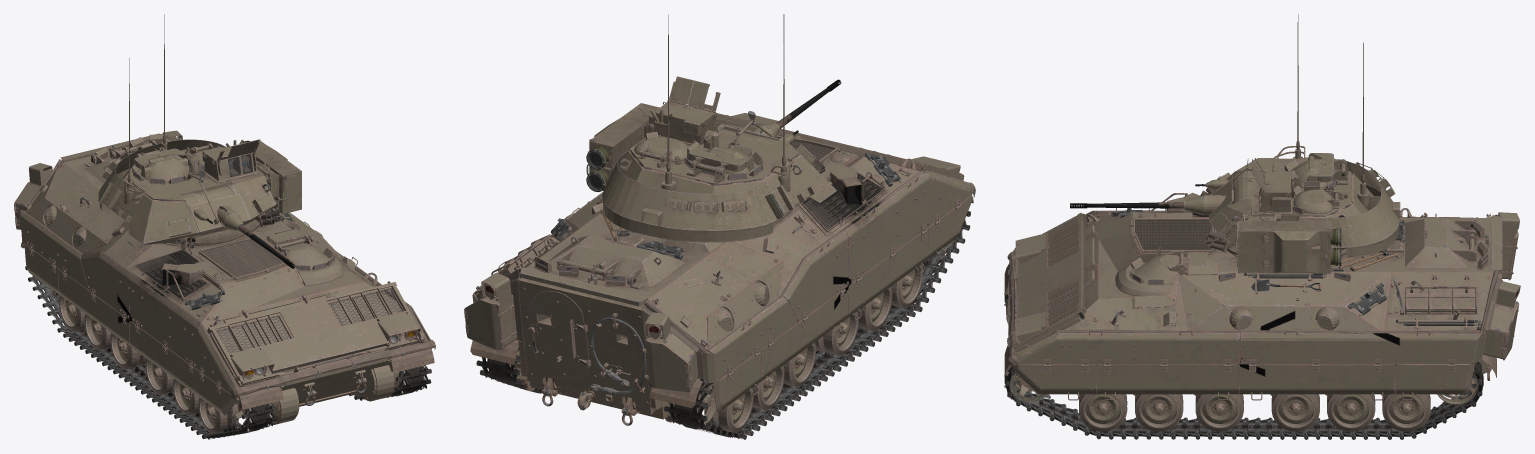
File: bradley_m3a3.glb
The picture shows the model from 3 angles, left to right: view 1: azimuth 30°, elevation 25°; view 2: azimuth 150°, elevation 25°; view 3: azimuth 270°, elevation 25°; orthographic projection. The views are drawn at different scales.
Parts seen in each view (by area): view 1: Object_24, Object_25, Object_13, Object_6, Object_2, Object_35, Object_37, Object_14, Object_11, Object_34, Object_15, Object_28 (+8 smaller); view 2: Object_25, Object_24, Object_13, Object_6, Object_36, Object_39, Object_33, Object_37, Object_35, Object_34, Object_28, Object_14 (+10 smaller); view 3: Object_25, Object_24, Object_35, Object_13, Object_3, Object_37, Object_15, Object_32, Object_22, Object_33, Object_14, Object_2 (+8 smaller).
Boxes of the visible parts, box(x1,y1,x2,y2) form: Object_24: box(20, 134, 429, 424); Object_25: box(21, 133, 435, 424); Object_13: box(98, 135, 280, 250); Object_6: box(25, 266, 277, 439); Object_2: box(135, 239, 289, 299); Object_35: box(130, 321, 431, 415); Object_37: box(85, 140, 343, 310); Object_14: box(134, 144, 280, 237); Object_11: box(180, 184, 249, 236); Object_34: box(58, 208, 366, 393); Object_15: box(185, 139, 301, 220); Object_28: box(84, 314, 173, 395); Object_25: box(472, 110, 975, 419); Object_24: box(473, 115, 975, 422); Object_13: box(602, 76, 836, 242); Object_6: box(664, 211, 970, 439); Object_36: box(527, 218, 686, 382); Object_39: box(550, 231, 702, 425); Object_33: box(464, 198, 629, 406); Object_37: box(548, 125, 901, 286); Object_35: box(845, 195, 972, 320); Object_34: box(577, 286, 848, 410); Object_28: box(752, 311, 858, 409); Object_14: box(634, 122, 823, 174); Object_25: box(1004, 192, 1503, 387); Object_24: box(1004, 193, 1503, 388); Object_35: box(1013, 363, 1474, 400); Object_13: box(1200, 141, 1400, 257); Object_3: box(1004, 359, 1483, 439); Object_37: box(1077, 208, 1475, 395); Object_15: box(1211, 163, 1333, 273); Object_32: box(1271, 394, 1375, 431); Object_22: box(1079, 379, 1183, 431); Object_33: box(1251, 249, 1520, 380); Object_14: box(1209, 153, 1347, 237); Object_2: box(1135, 212, 1212, 249).
Bounding box in the file's own units: 3.21 × 4.75 × 6.47.
Materials: 16 (15 with a texture image).
